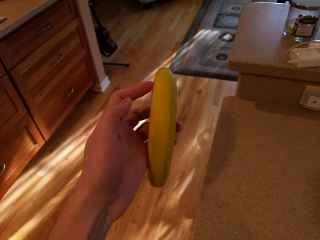banana: (143, 63, 180, 190)
